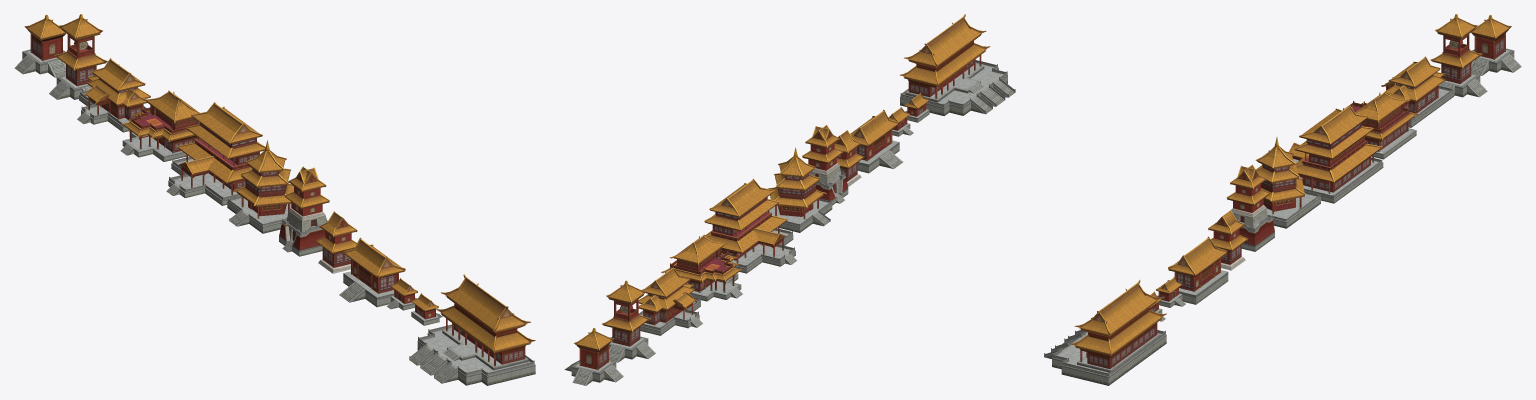
The model's file is jm_fangzi01.FBX.
3 views of the same model, side by side, from view 1: azimuth 30°, elevation 25°; view 2: azimuth 150°, elevation 25°; view 3: azimuth 330°, elevation 25° (orthographic). The views are drawn at different scales.
Visible parts, largest first — view 1: jm_fangzi01_001, jm_fangzi01_008, jm_fangzi01_007, jm_fangzi01_009, jm_fangzi01_010, jm_fangzi01_006, jm_fangzi01_004, jm_fangzi01_011, jm_fangzi01_012, jm_fangzi01_005, jm_fangzi01_002, jm_fangzi01_003; view 2: jm_fangzi01_001, jm_fangzi01_008, jm_fangzi01_007, jm_fangzi01_009, jm_fangzi01_010, jm_fangzi01_011, jm_fangzi01_006, jm_fangzi01_004, jm_fangzi01_012, jm_fangzi01_005, jm_fangzi01_002, jm_fangzi01_003; view 3: jm_fangzi01_001, jm_fangzi01_008, jm_fangzi01_007, jm_fangzi01_010, jm_fangzi01_009, jm_fangzi01_006, jm_fangzi01_011, jm_fangzi01_004, jm_fangzi01_012, jm_fangzi01_005, jm_fangzi01_003.
Part boxes in pixels (bbox=[...]): jm_fangzi01_001: bbox=[409, 274, 535, 385]; jm_fangzi01_008: bbox=[166, 102, 265, 205]; jm_fangzi01_007: bbox=[227, 140, 293, 233]; jm_fangzi01_009: bbox=[120, 90, 199, 161]; jm_fangzi01_010: bbox=[77, 58, 150, 132]; jm_fangzi01_006: bbox=[279, 166, 329, 256]; jm_fangzi01_004: bbox=[339, 237, 405, 307]; jm_fangzi01_011: bbox=[49, 14, 107, 99]; jm_fangzi01_012: bbox=[14, 14, 65, 77]; jm_fangzi01_005: bbox=[316, 211, 357, 273]; jm_fangzi01_002: bbox=[411, 293, 442, 325]; jm_fangzi01_003: bbox=[387, 278, 417, 310]; jm_fangzi01_001: bbox=[900, 14, 1015, 115]; jm_fangzi01_008: bbox=[704, 178, 797, 273]; jm_fangzi01_007: bbox=[767, 147, 832, 232]; jm_fangzi01_009: bbox=[661, 234, 742, 301]; jm_fangzi01_010: bbox=[638, 267, 702, 335]; jm_fangzi01_011: bbox=[602, 280, 655, 362]; jm_fangzi01_006: bbox=[802, 124, 848, 205]; jm_fangzi01_004: bbox=[850, 109, 902, 173]; jm_fangzi01_012: bbox=[564, 328, 623, 385]; jm_fangzi01_005: bbox=[834, 130, 863, 187]; jm_fangzi01_002: bbox=[904, 93, 929, 122]; jm_fangzi01_003: bbox=[888, 107, 913, 136]; jm_fangzi01_001: bbox=[1044, 279, 1166, 385]; jm_fangzi01_008: bbox=[1289, 105, 1383, 203]; jm_fangzi01_007: bbox=[1255, 137, 1320, 228]; jm_fangzi01_010: bbox=[1381, 56, 1453, 127]; jm_fangzi01_009: bbox=[1343, 91, 1419, 159]; jm_fangzi01_006: bbox=[1226, 164, 1274, 251]; jm_fangzi01_011: bbox=[1430, 14, 1487, 97]; jm_fangzi01_004: bbox=[1168, 236, 1228, 304]; jm_fangzi01_012: bbox=[1471, 15, 1521, 75]; jm_fangzi01_005: bbox=[1208, 210, 1248, 270]; jm_fangzi01_003: bbox=[1156, 277, 1185, 307].
Size of the model in its own units: 5.47 by 4.62 by 44.6.
